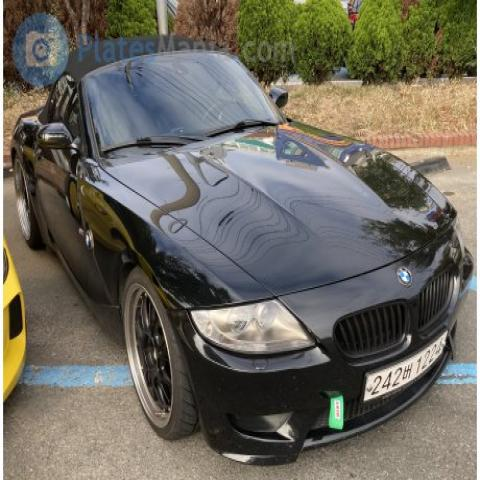LP: (363, 317, 453, 419)
